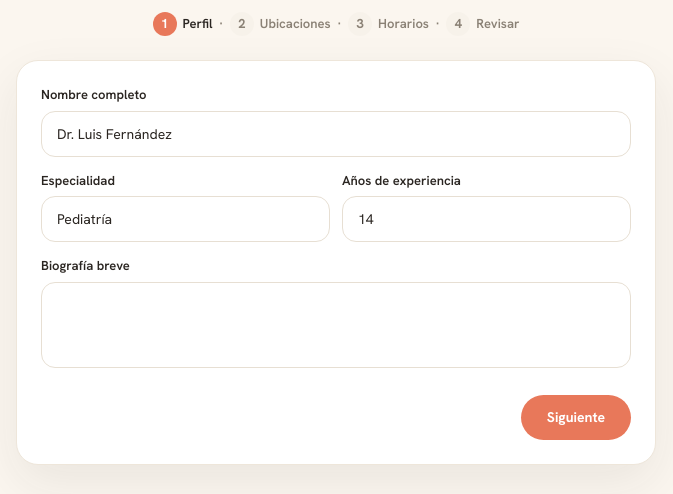
Test: OnboardingWizard › disables Siguiente until the profile is valid
The image size is (673, 494).
Clear the field labelled "Nombre completo": [336, 134] box [41,110,631,156]
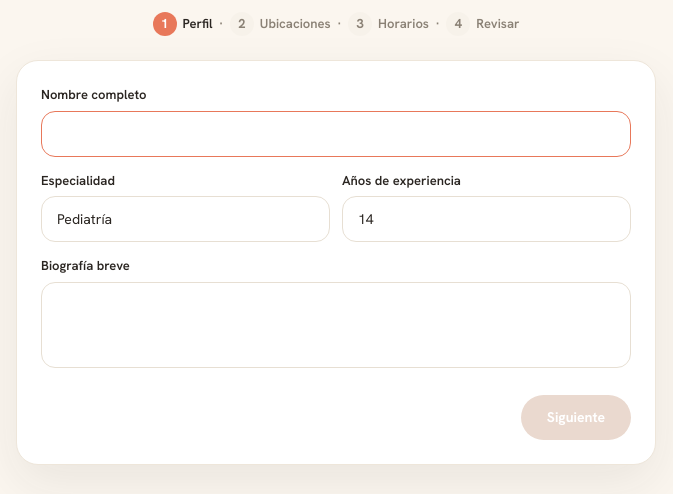
Now the button "Siguiente" is disabled, box [521,394,631,440]
In the field labelled "Nombre completo": [336, 134] box [41,110,631,156], type "Dra. Ana Ríos"
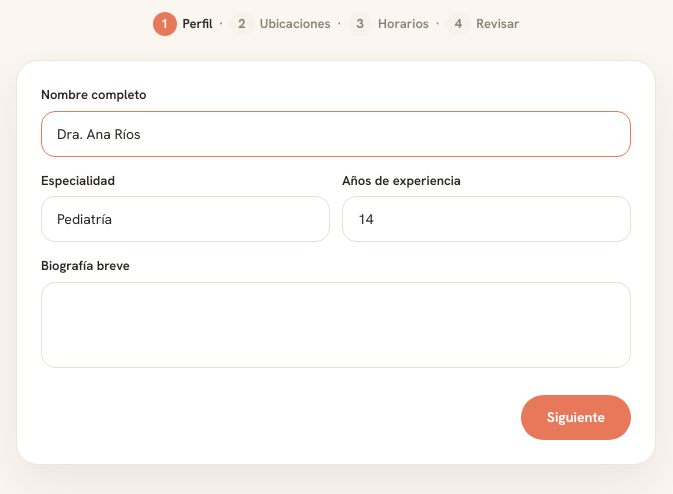
Now the button "Siguiente" is enabled, box [521,394,631,440]
